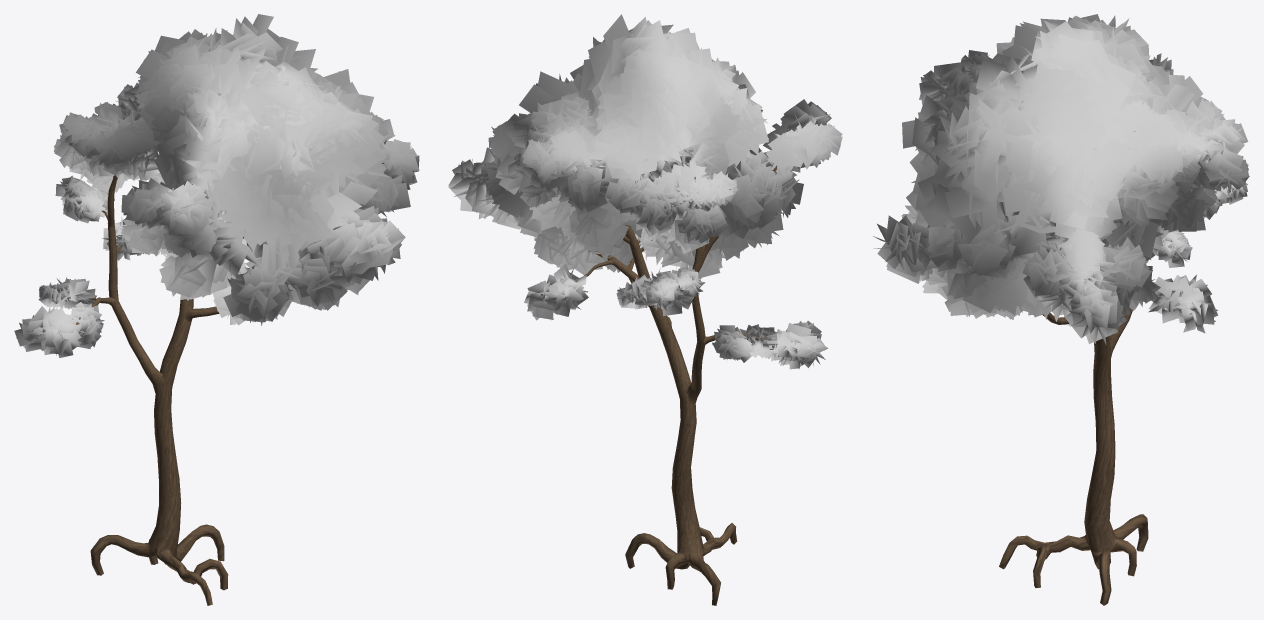
Rendered from Tree_02.fbx.
3 views of the same model, side by side, from view 1: azimuth 30°, elevation 25°; view 2: azimuth 150°, elevation 25°; view 3: azimuth 270°, elevation 25° (orthographic). The views are drawn at different scales.
Visible parts, largest first — view 1: Tree_02_LOD0; view 2: Tree_02_LOD0; view 3: Tree_02_LOD0.
Boxes of the visible parts, x1,y1,x2,y2 form: Tree_02_LOD0: [14, 14, 419, 605]; Tree_02_LOD0: [448, 14, 842, 605]; Tree_02_LOD0: [873, 14, 1249, 605].
Size of what is drawn, in the model's own units: 4.47 by 6.01 by 3.51.
